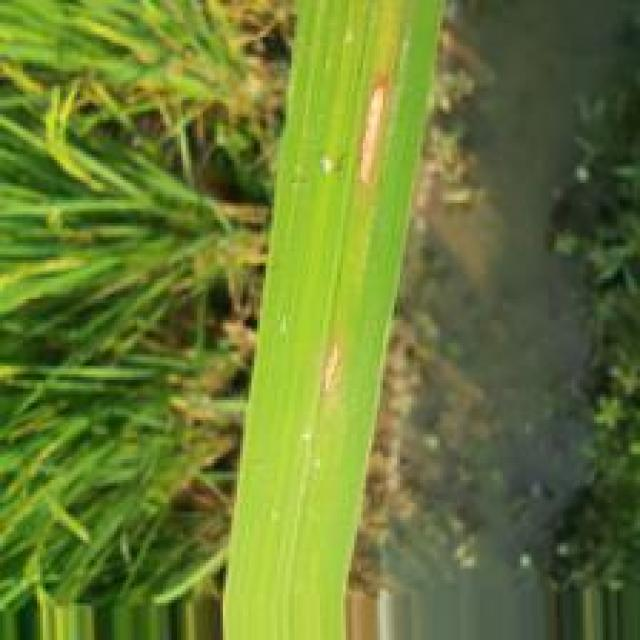Rice Tungro: (355, 75, 388, 187), (317, 344, 346, 399)
